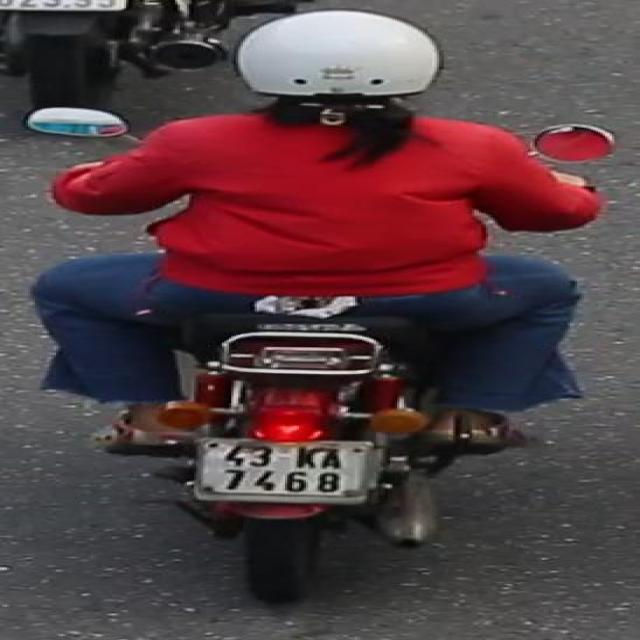LP: (179, 434, 391, 509)
helmet: (241, 3, 444, 146)
